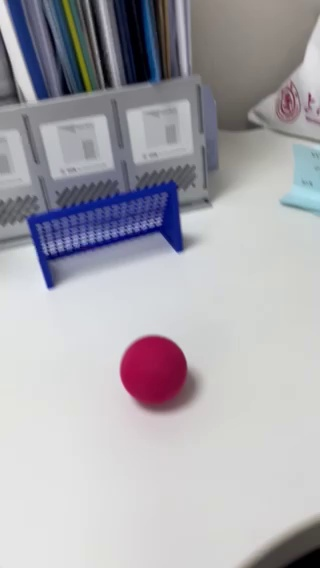goal: (25, 186, 191, 296)
redball: (118, 335, 190, 404)
